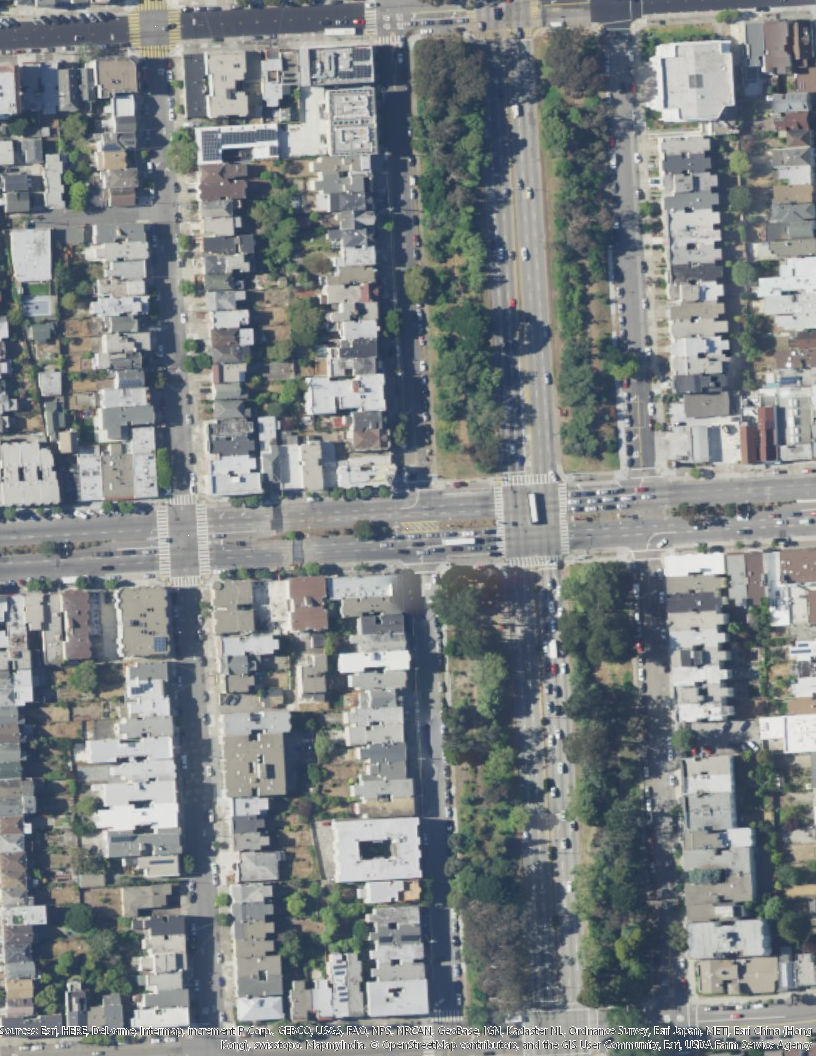zebracross: (156, 504, 173, 574), (492, 482, 506, 554), (505, 553, 561, 568), (502, 470, 556, 485), (558, 481, 569, 554), (199, 503, 210, 575), (167, 10, 183, 44), (128, 11, 143, 47), (140, 44, 170, 59), (432, 1009, 466, 1022), (171, 574, 202, 588), (365, 1, 377, 33), (171, 493, 198, 506), (141, 1, 168, 11), (377, 35, 404, 44)
